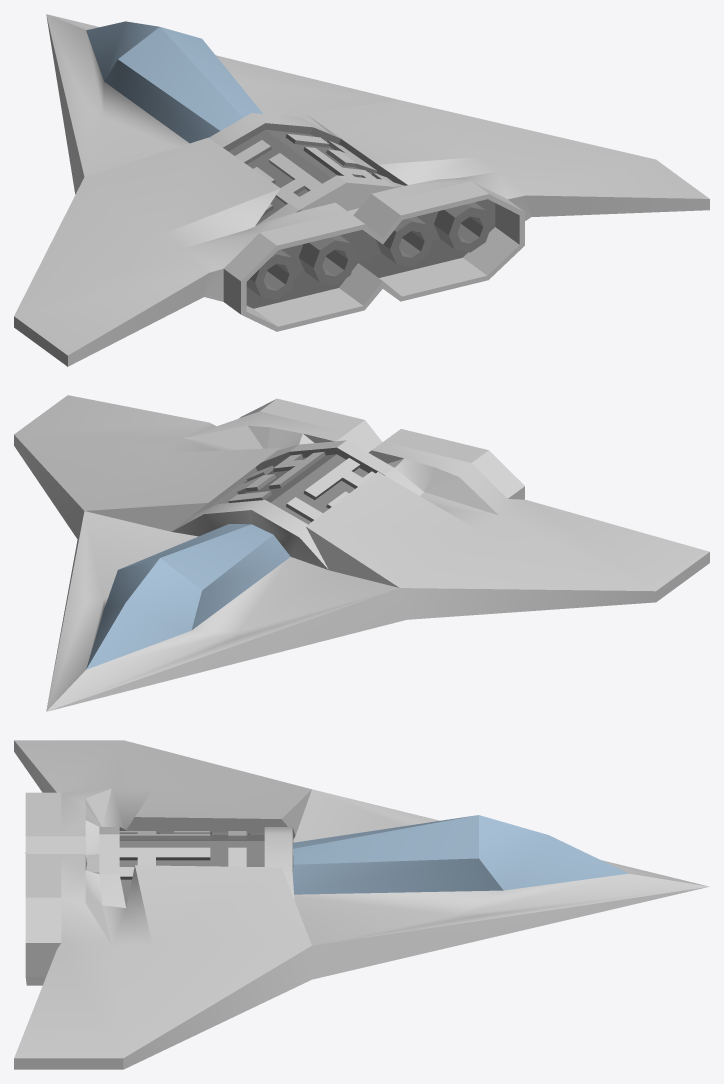
Rendered from Ship.dae.
3 renders of one model, top to bottom at view 1: azimuth 30°, elevation 25°; view 2: azimuth 150°, elevation 25°; view 3: azimuth 270°, elevation 25°, orthographic.
Visible parts, largest first — view 1: Plane; view 2: Plane; view 3: Plane.
Boxes of the visible parts, box(x1,y1,x2,y2) form: Plane: box(14, 14, 709, 366); Plane: box(14, 395, 709, 711); Plane: box(14, 740, 709, 1069).
Size of the model in its own units: 1.86 by 1.72 by 0.3401.
